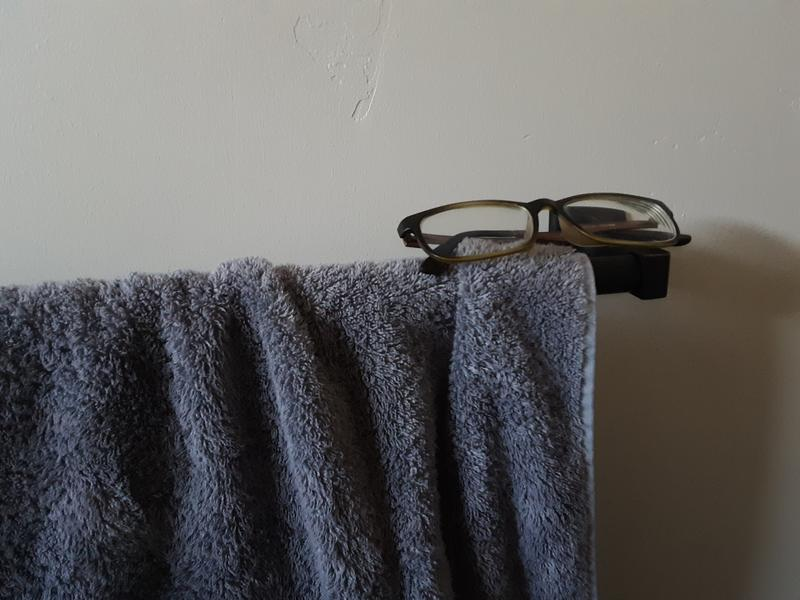glasses: (396, 192, 694, 277)
